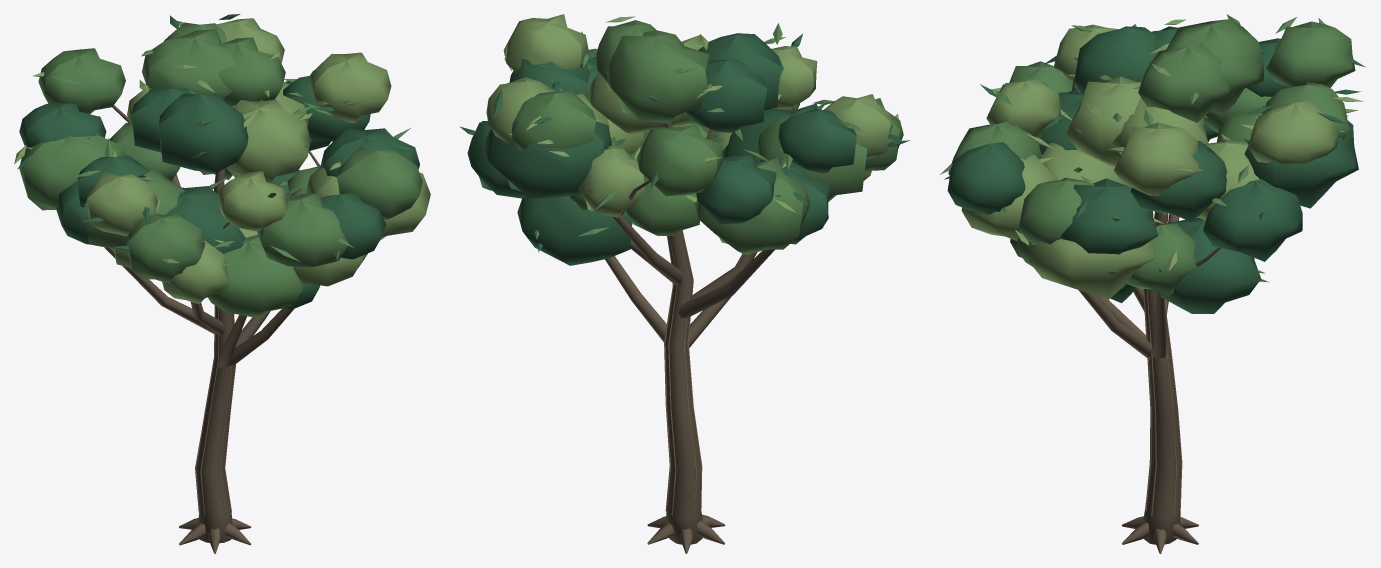
File: tree.glb
3 views of the same model, side by side, from view 1: azimuth 30°, elevation 25°; view 2: azimuth 150°, elevation 25°; view 3: azimuth 270°, elevation 25° (orthographic). The views are drawn at different scales.
Visible parts, largest first — view 1: Tree_leafMid, Tree_leafSun, Tree_leafDeep, Tree_bark, Tree_barkRidge; view 2: Tree_leafDeep, Tree_leafMid, Tree_leafSun, Tree_bark, Tree_barkRidge; view 3: Tree_leafDeep, Tree_leafSun, Tree_leafMid, Tree_bark, Tree_barkRidge.
Boxes of the visible parts, box(x1,y1,x2,y2) form: Tree_leafMid: box(19, 22, 422, 317); Tree_leafSun: box(14, 18, 430, 304); Tree_leafDeep: box(17, 14, 419, 309); Tree_bark: box(104, 105, 320, 553); Tree_barkRidge: box(195, 305, 236, 516); Tree_leafDeep: box(459, 33, 909, 265); Tree_leafMid: box(511, 20, 903, 254); Tree_leafSun: box(486, 14, 898, 217); Tree_bark: box(588, 105, 796, 553); Tree_barkRidge: box(664, 231, 702, 515); Tree_leafDeep: box(944, 26, 1365, 313); Tree_leafSun: box(961, 18, 1363, 299); Tree_leafMid: box(940, 14, 1355, 296); Tree_bark: box(1078, 212, 1220, 553); Tree_barkRidge: box(1143, 289, 1182, 516).
Bounding box in the file's own units: 5.95 × 8 × 6.03.
